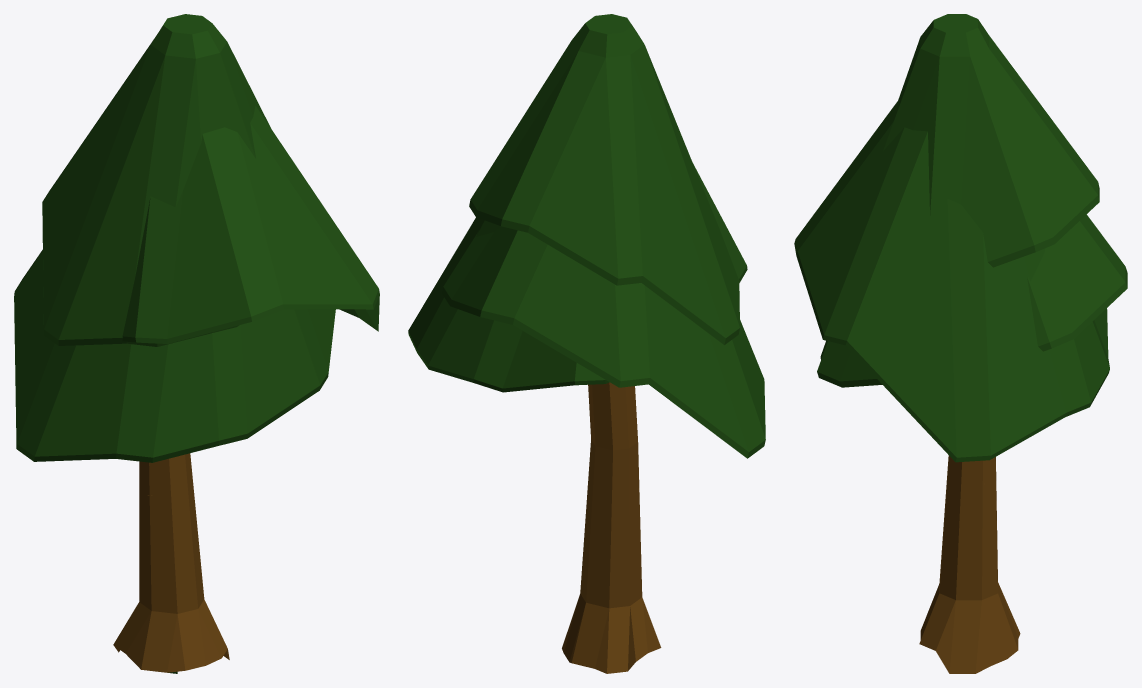
File: Tree.fbx
3 renders of one model, left to right at view 1: azimuth 30°, elevation 25°; view 2: azimuth 150°, elevation 25°; view 3: azimuth 270°, elevation 25°, orthographic. The views are drawn at different scales.
Visible parts, largest first — view 1: Cube.002, Cube.001; view 2: Cube.002, Cube.001; view 3: Cube.002, Cube.001.
Part boxes in pixels (left/top/right/bottom): Cube.002: left=14, top=14, right=379, bottom=495; Cube.001: left=113, top=495, right=229, bottom=673; Cube.002: left=408, top=14, right=765, bottom=501; Cube.001: left=562, top=486, right=661, bottom=673; Cube.002: left=794, top=14, right=1127, bottom=486; Cube.001: left=919, top=476, right=1020, bottom=673.
Bounding box in the file's own units: 1347 × 2382 × 1138.
